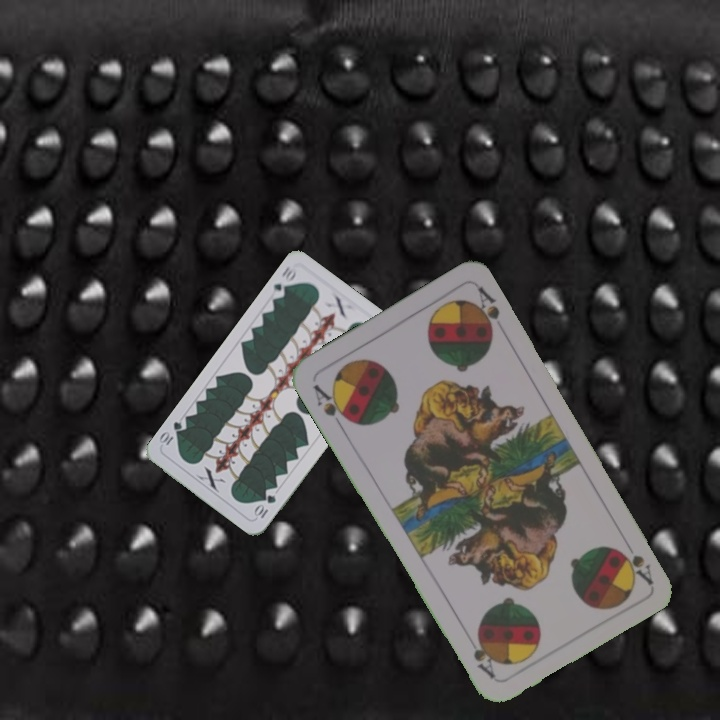G10: (267, 261, 299, 301), (250, 490, 279, 521)
SA: (309, 380, 354, 432), (616, 545, 656, 587)
